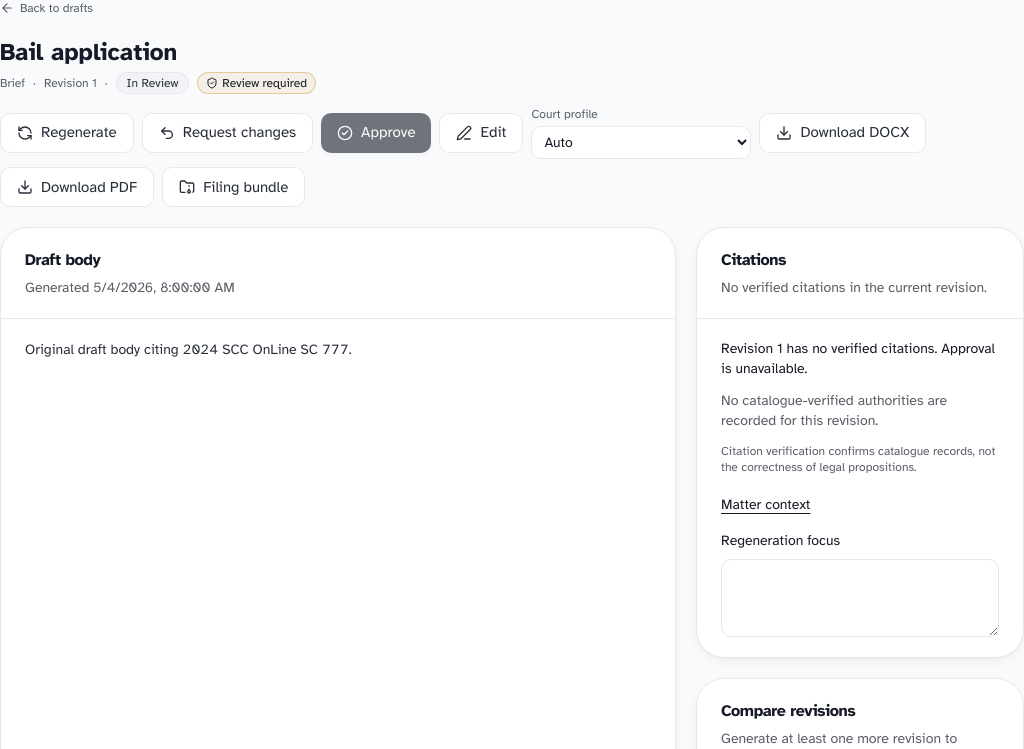
Test case: MatterDraftDetailPage › B3-DRAFT-02/03: bounded focus regenerates a new revision before review and approval
Type "  Address the reviewed limitation issue.  " into the text box labelled "Regeneration focus" at (860, 598), box top-left (721, 559), bottom-right (999, 637)
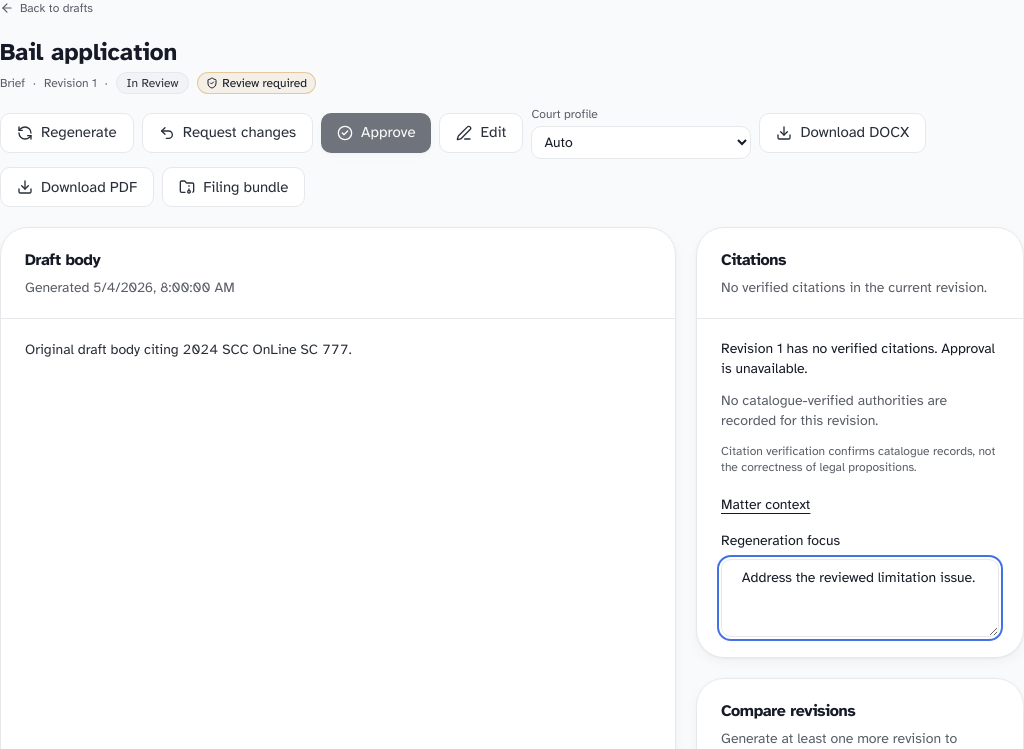
Click the button with test id "draft-generate" at (67, 132), box top-left (0, 112), bottom-right (134, 152)
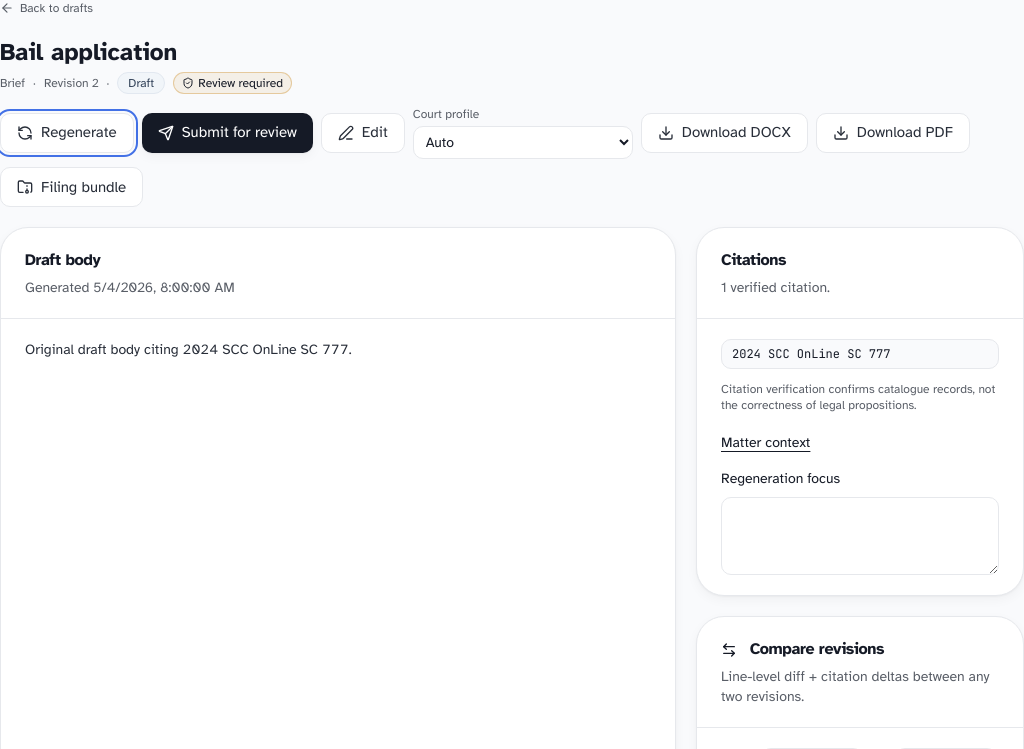
Check: the button with test id "draft-submit" is enabled
Check: the text with test id "draft-current-revision" reads "Revision 2", box top-left (44, 76), bottom-right (98, 90)
Click the button with test id "draft-submit" at (227, 132), box top-left (142, 112), bottom-right (313, 152)
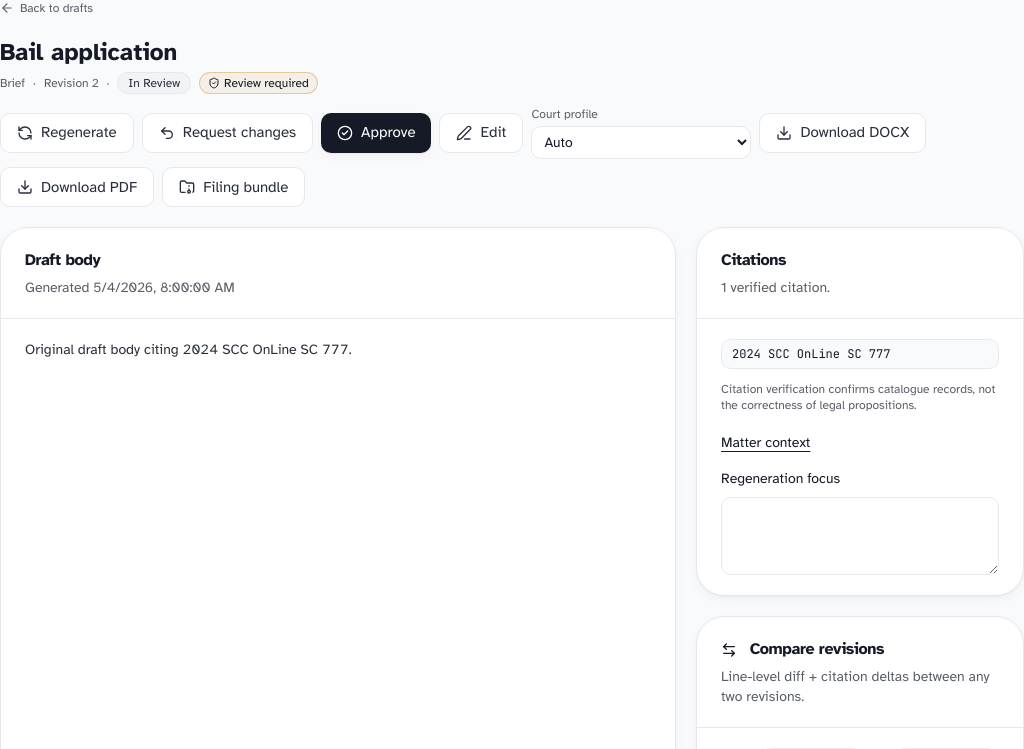
Check: the button with test id "draft-approve" is enabled
Click the button with test id "draft-approve" at (376, 132), box top-left (321, 112), bottom-right (432, 152)
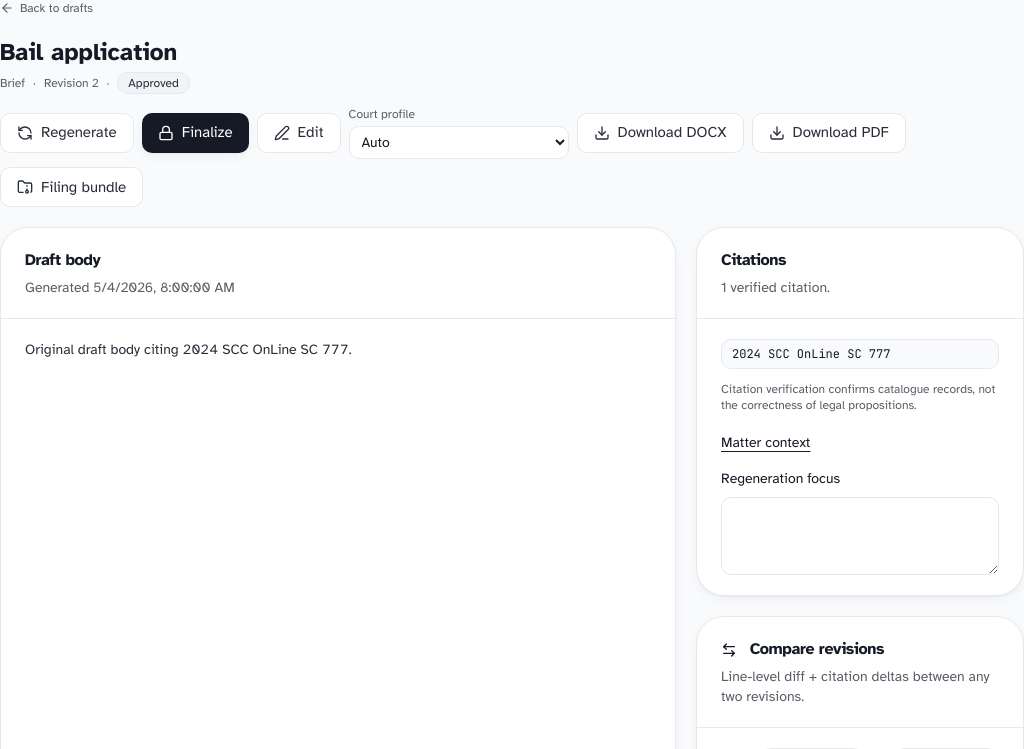
Check: the button with test id "draft-finalize" is shown, box top-left (142, 112), bottom-right (249, 152)
